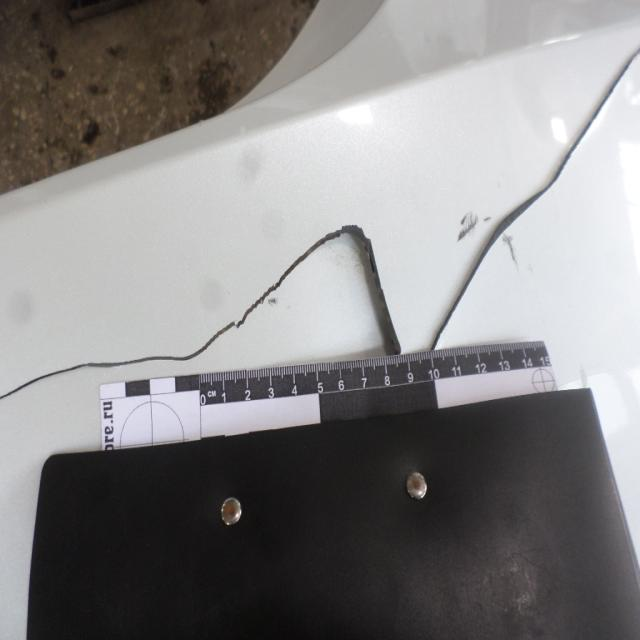Dechirure: (431, 39, 640, 356), (0, 225, 364, 401), (352, 225, 406, 354)
